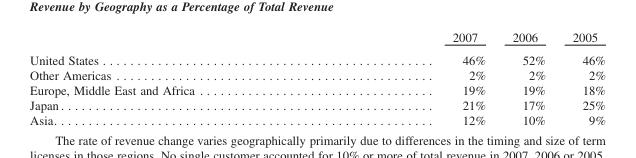table: (29, 29, 604, 126)
table column: (29, 29, 322, 126), (322, 29, 498, 126), (498, 29, 558, 126), (558, 29, 604, 126)
table column header: (29, 29, 604, 47)
table row: (29, 47, 604, 66), (29, 29, 604, 47), (29, 81, 604, 97), (29, 66, 604, 81), (29, 97, 604, 112), (29, 112, 604, 126)
